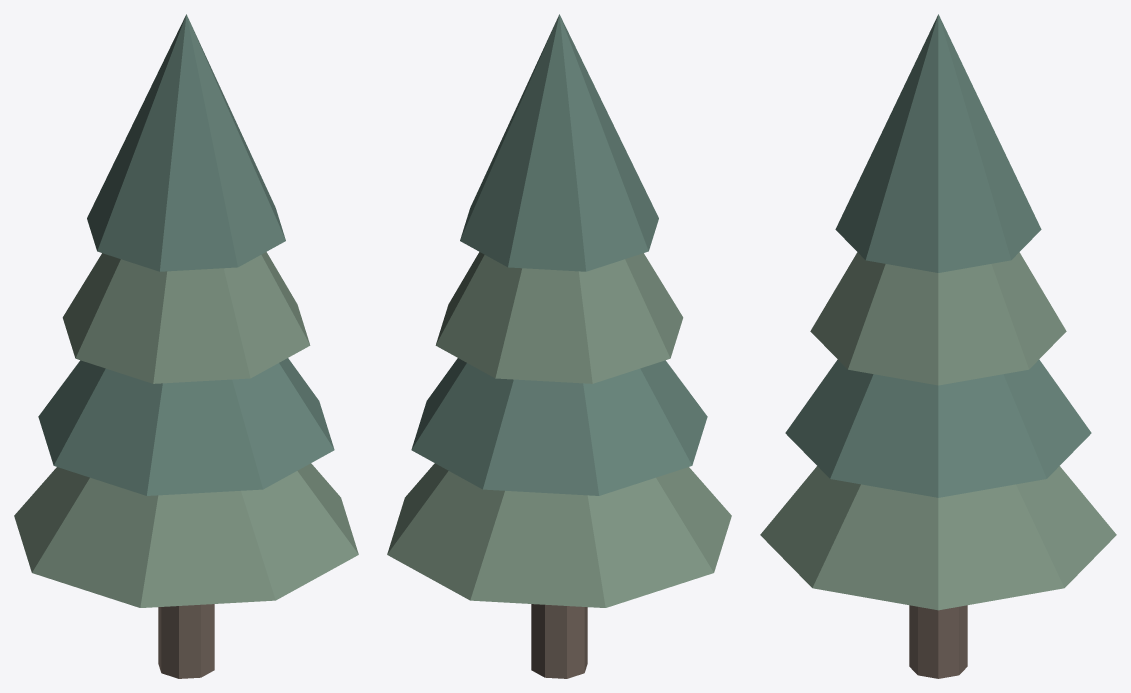
The model's file is pinheiro_escarpado.glb.
3 renders of one model, left to right at view 1: azimuth 30°, elevation 25°; view 2: azimuth 150°, elevation 25°; view 3: azimuth 270°, elevation 25°, orthographic.
Visible parts, largest first — view 1: pinheiro_escarpado_part_001, pinheiro_escarpado_part_002, pinheiro_escarpado_part_004, pinheiro_escarpado_part_003, pinheiro_escarpado_part_000; view 2: pinheiro_escarpado_part_001, pinheiro_escarpado_part_002, pinheiro_escarpado_part_004, pinheiro_escarpado_part_003, pinheiro_escarpado_part_000; view 3: pinheiro_escarpado_part_001, pinheiro_escarpado_part_002, pinheiro_escarpado_part_004, pinheiro_escarpado_part_003, pinheiro_escarpado_part_000.
Part boxes in pixels (box(x1,y1,x2,y2)): pinheiro_escarpado_part_001: box(14, 463, 358, 607); pinheiro_escarpado_part_002: box(38, 358, 334, 495); pinheiro_escarpado_part_004: box(87, 14, 285, 271); pinheiro_escarpado_part_003: box(62, 252, 310, 383); pinheiro_escarpado_part_000: box(158, 604, 214, 678); pinheiro_escarpado_part_001: box(387, 463, 731, 607); pinheiro_escarpado_part_002: box(411, 358, 707, 495); pinheiro_escarpado_part_004: box(460, 14, 658, 271); pinheiro_escarpado_part_003: box(435, 252, 683, 383); pinheiro_escarpado_part_000: box(531, 604, 587, 678); pinheiro_escarpado_part_001: box(760, 466, 1116, 610); pinheiro_escarpado_part_002: box(785, 359, 1091, 497); pinheiro_escarpado_part_004: box(835, 14, 1041, 272); pinheiro_escarpado_part_003: box(810, 252, 1066, 385); pinheiro_escarpado_part_000: box(909, 605, 967, 678).
Bounding box in the file's own units: 2.7 × 5.45 × 2.7.
